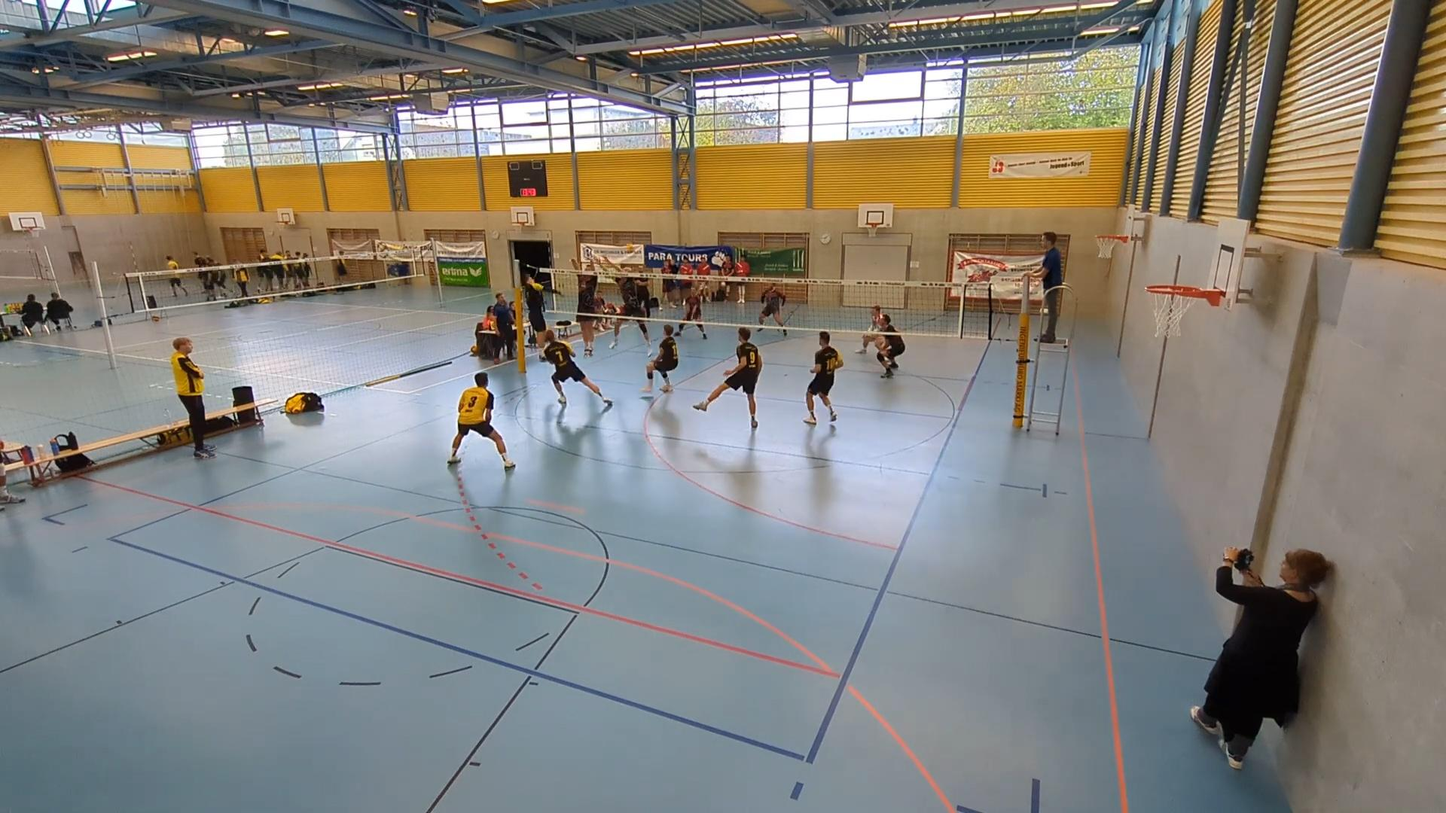attacco: (521, 258, 562, 356)
muro: (596, 250, 655, 355), (567, 252, 601, 362)
